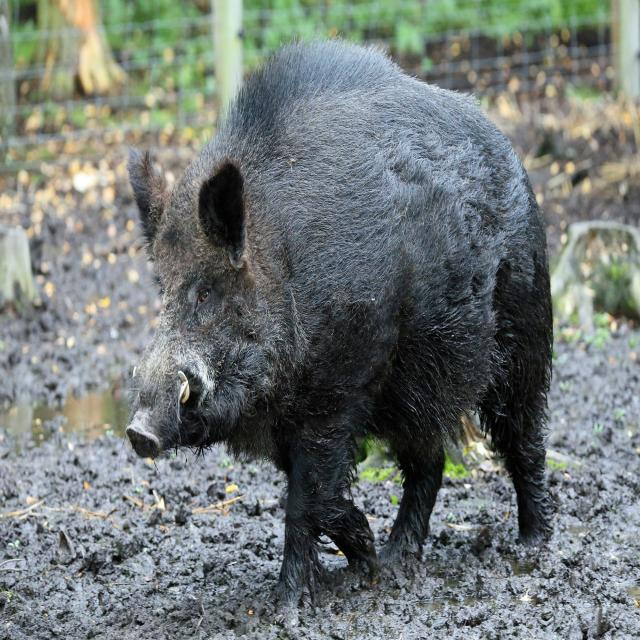Boar: (124, 28, 559, 600)
